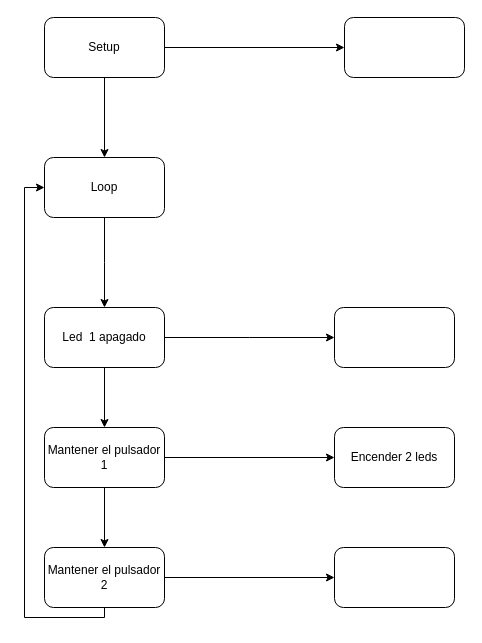
Image size: 482x643. Some labels were removed from this diagram. The box of each missing label's shape, as (x1, y1, x2, y2) in pixels:
Definir 2 leds y 2 pulsadores: (344, 16, 464, 78)
Encender led 2: (334, 546, 454, 608)
Led 2 apagado: (334, 306, 454, 368)
